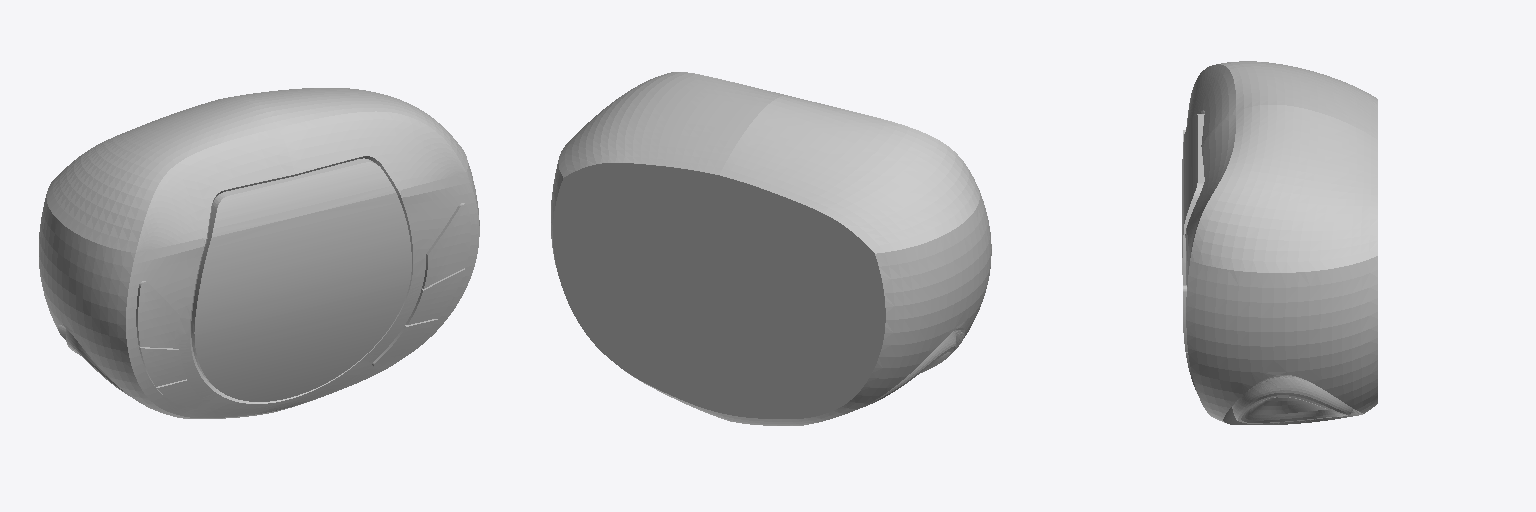
File: radio.obj
3 renders of one model, left to right at view 1: azimuth 30°, elevation 25°; view 2: azimuth 150°, elevation 25°; view 3: azimuth 270°, elevation 25°, orthographic.
Parts seen in each view (by area): view 1: object_1; view 2: object_1; view 3: object_1.
Boxes of the visible parts, box(x1,y1,x2,y2) form: object_1: box(39, 88, 479, 418); object_1: box(551, 72, 991, 425); object_1: box(1182, 61, 1377, 424).
Bounding box in the file's own units: 25.46 × 18.69 × 10.91.